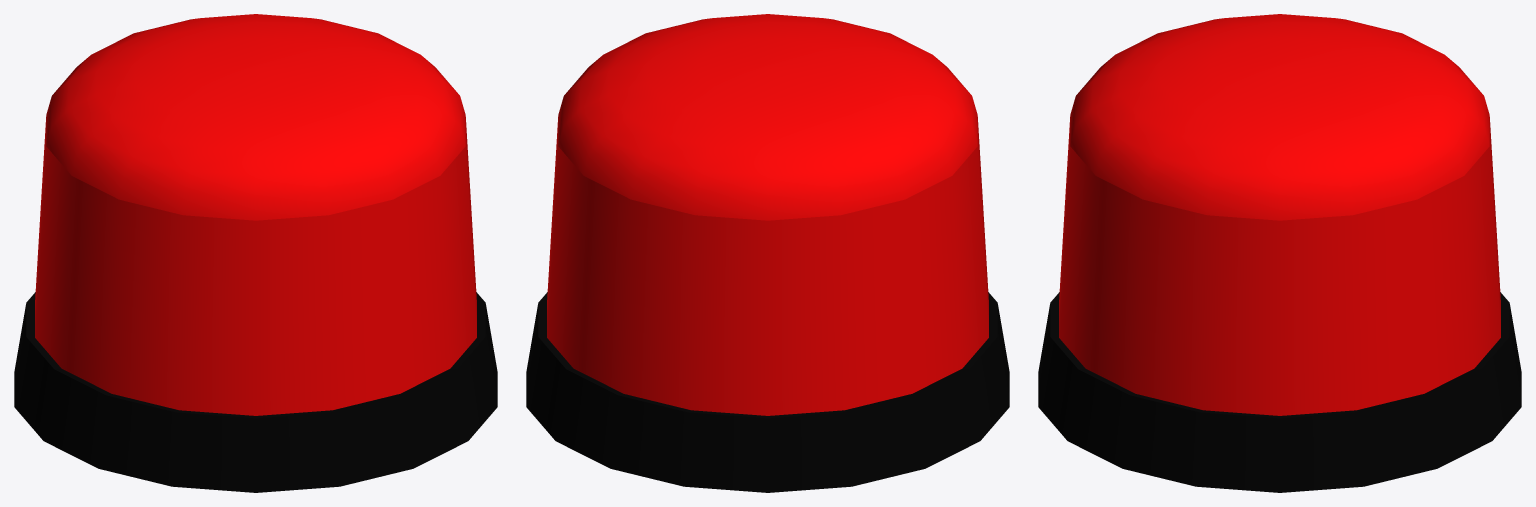
The model's file is SM_LedAlarme.fbx.
The picture shows the model from 3 angles, left to right: view 1: azimuth 30°, elevation 25°; view 2: azimuth 150°, elevation 25°; view 3: azimuth 270°, elevation 25°; orthographic projection.
Visible parts, largest first — view 1: SM_LedAlarme; view 2: SM_LedAlarme; view 3: SM_LedAlarme.
Boxes of the visible parts, box(x1,y1,x2,y2) form: SM_LedAlarme: box(14, 14, 497, 492); SM_LedAlarme: box(526, 14, 1009, 492); SM_LedAlarme: box(1038, 14, 1521, 492).
Size of the model in its own units: 34.55 by 25.1 by 34.02.
